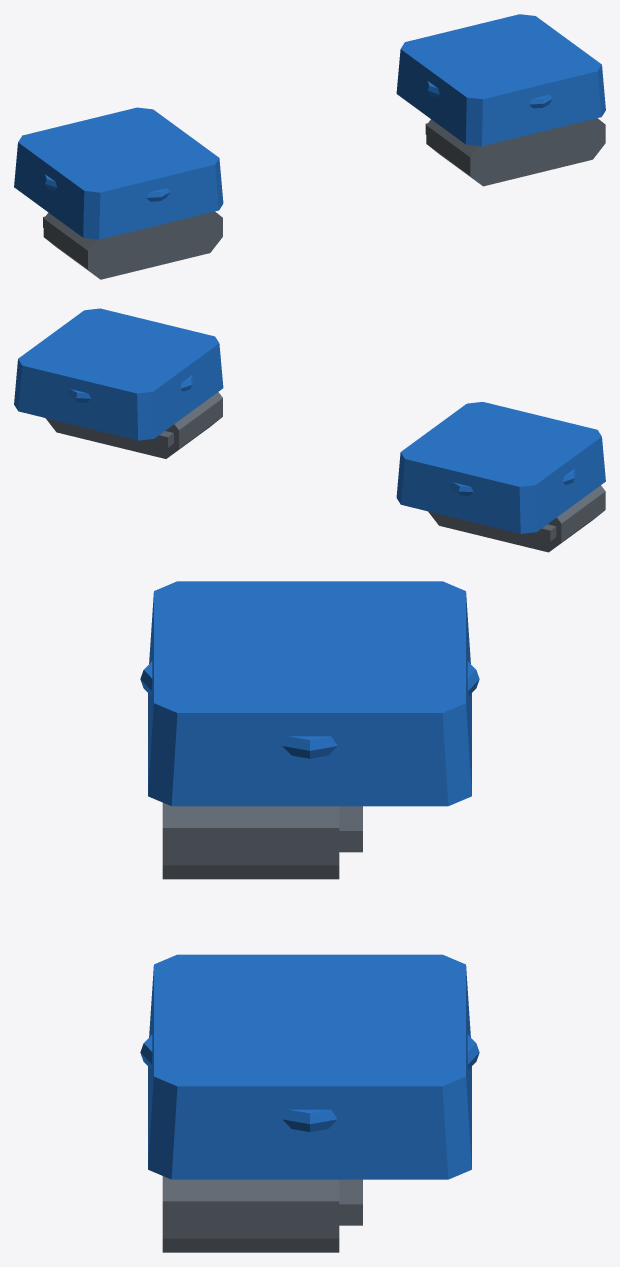
File: gloves_dualblade_s3.fbx
3 renders of one model, top to bottom at view 1: azimuth 30°, elevation 25°; view 2: azimuth 150°, elevation 25°; view 3: azimuth 270°, elevation 25°, orthographic. The views are drawn at different scales.
Visible parts, largest first — view 1: Bracer_L_Band, Bracer_R_Band, Glove_R_Inner, Glove_L_Inner; view 2: Bracer_R_Band, Bracer_L_Band, Glove_L_Inner, Glove_R_Inner; view 3: Bracer_R_Band, Bracer_L_Band, Glove_L_Inner, Glove_R_Inner.
Boxes of the visible parts, x1=… form: Bracer_L_Band: x1=14, y1=107, x2=223, y2=239; Bracer_R_Band: x1=396, y1=14, x2=605, y2=146; Glove_R_Inner: x1=425, y1=118, x2=605, y2=186; Glove_L_Inner: x1=43, y1=211, x2=222, y2=279; Bracer_R_Band: x1=14, y1=308, x2=223, y2=440; Bracer_L_Band: x1=396, y1=402, x2=605, y2=533; Glove_L_Inner: x1=428, y1=485, x2=605, y2=552; Glove_R_Inner: x1=45, y1=392, x2=222, y2=458; Bracer_R_Band: x1=140, y1=954, x2=479, y2=1179; Bracer_L_Band: x1=140, y1=581, x2=479, y2=806; Glove_L_Inner: x1=162, y1=803, x2=362, y2=879; Glove_R_Inner: x1=162, y1=1176, x2=362, y2=1252.
Size of the model in its own units: 415 by 67 by 115.
